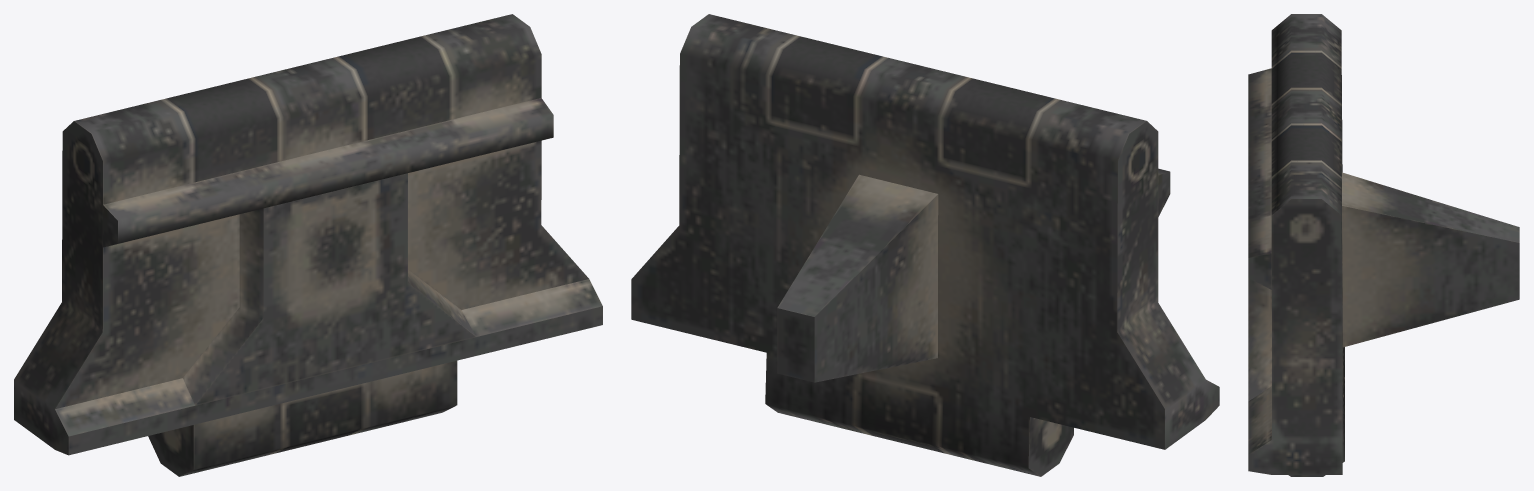
The picture shows the model from 3 angles, left to right: view 1: azimuth 30°, elevation 25°; view 2: azimuth 150°, elevation 25°; view 3: azimuth 270°, elevation 25°; orthographic projection. The views are drawn at different scales.
Visible parts, largest first — view 1: set_0_group_0; view 2: set_0_group_0; view 3: set_0_group_0.
Part boxes in pixels (x1,y1,x2,y2): set_0_group_0: (14, 14, 602, 476); set_0_group_0: (631, 14, 1219, 476); set_0_group_0: (1248, 14, 1519, 476).
Bounding box in the file's own units: 0.2799 × 0.1824 × 0.1424.
1 material, 1 textured.
